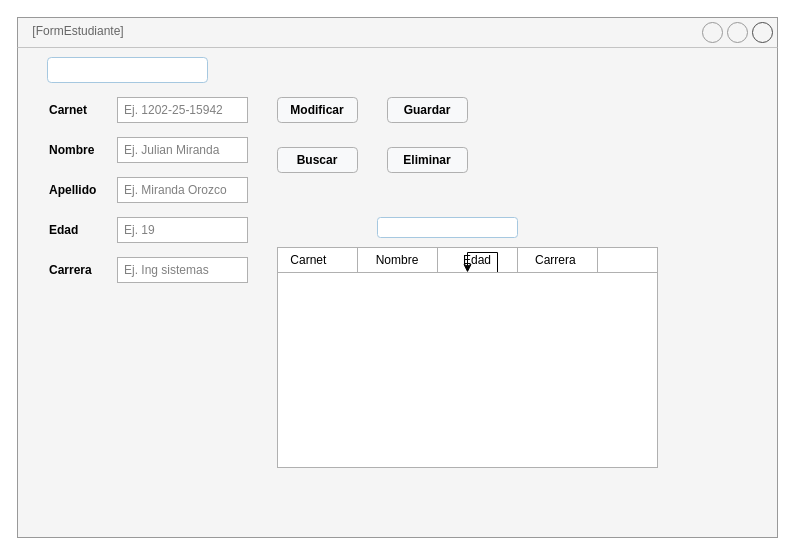
Image size: 795x555. Some labels were removed from this diagram. Each missing label, with the centre of its shape:
Appellido: the point at 627,259
Gestion Estudiante UMG: the point at 127,69
Tabla estudiante UMG: the point at 447,227
